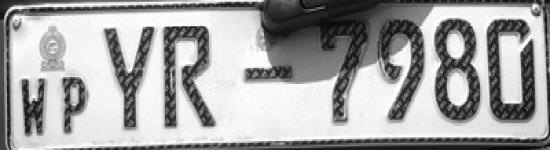-: (242, 62, 295, 82)
0: (485, 17, 540, 126)
7: (320, 18, 373, 124)
8: (431, 15, 483, 126)
9: (377, 18, 426, 123)
P: (60, 74, 92, 136)
R: (162, 23, 222, 136)
W: (18, 70, 51, 137)
Y: (100, 23, 158, 135)
